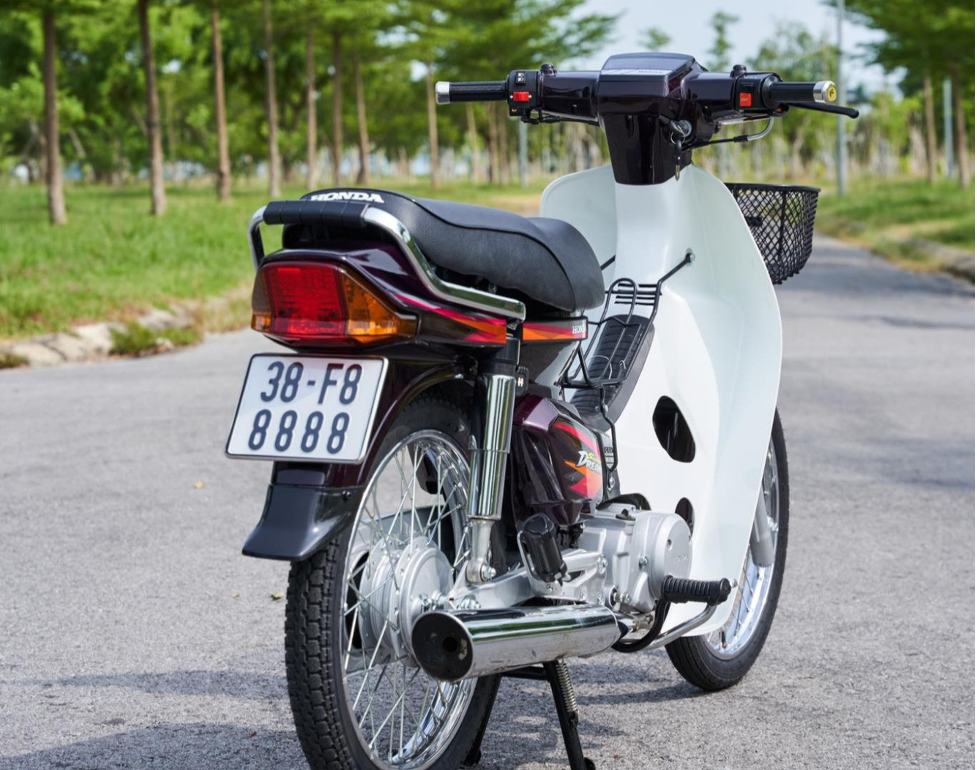bien_so: (226, 354, 387, 462)
